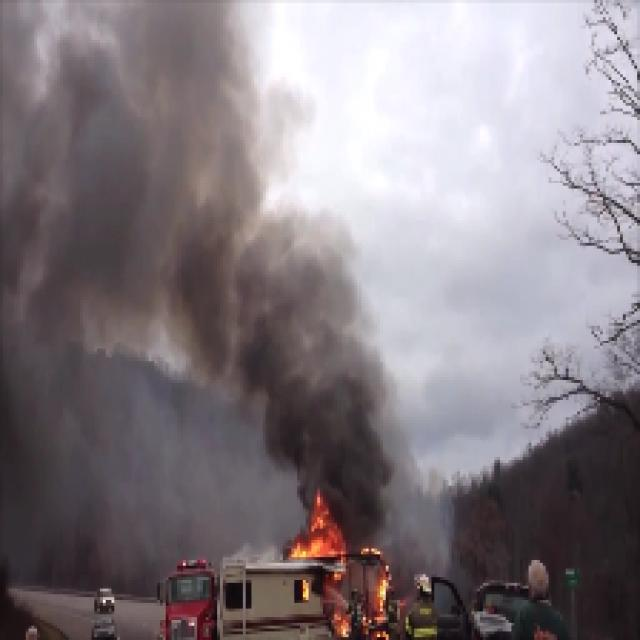Fire: (297, 506, 341, 558)
Smoke: (44, 13, 247, 322), (260, 256, 384, 497)
